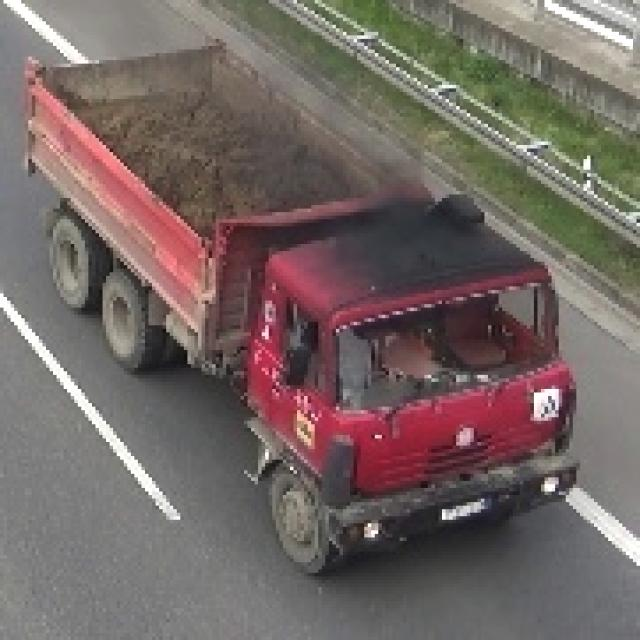truck: (19, 37, 577, 578)
